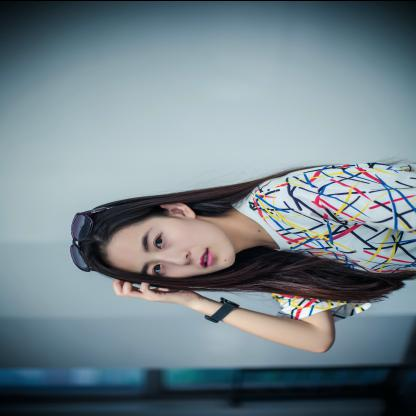Eye: (149, 232, 171, 252), (149, 262, 167, 276)
Mouth: (194, 244, 221, 270)
Nose: (162, 247, 190, 268)
